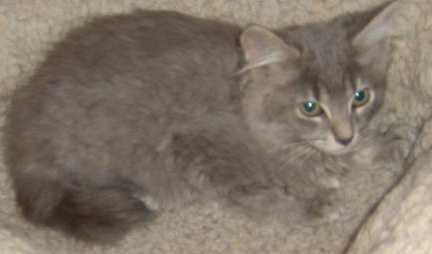Cat: (88, 0, 431, 253)
